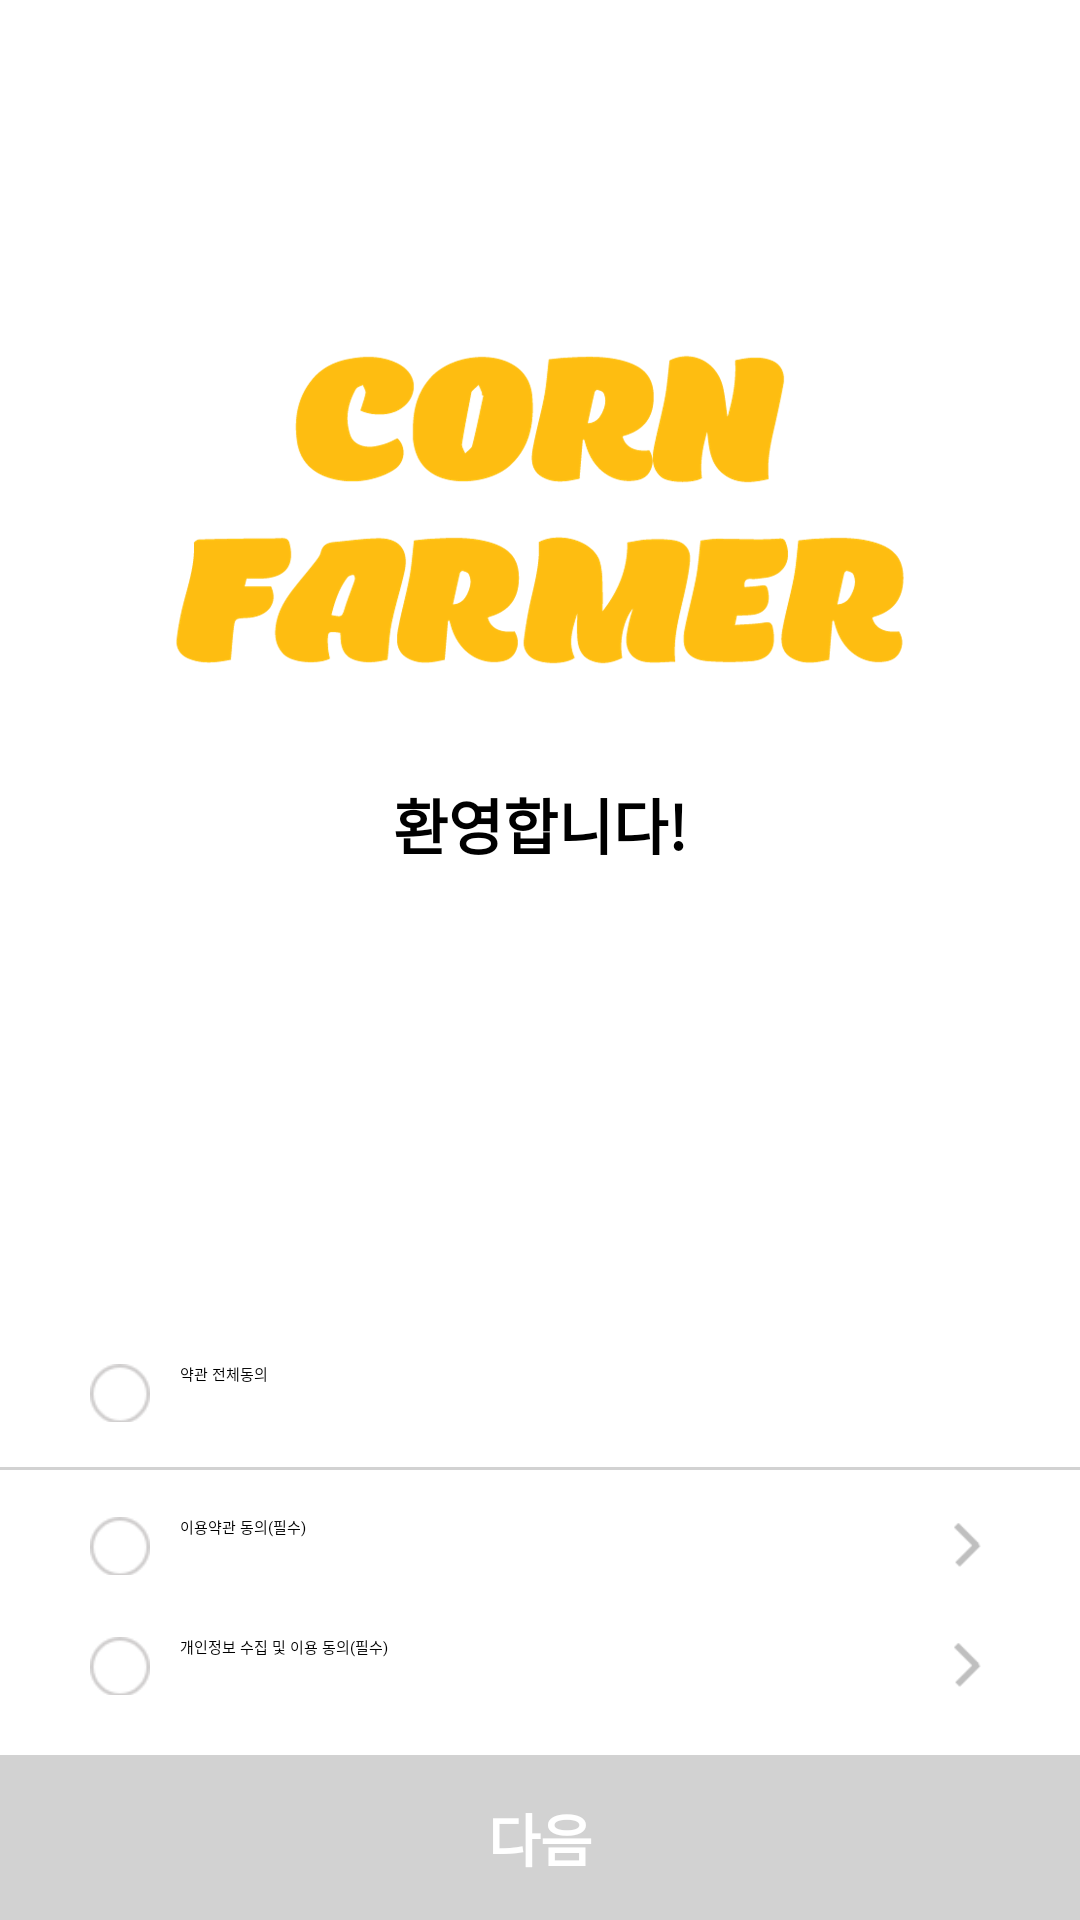

Named icons in this screenshot (1080 x 1920) and their bounding boxes, (x1, y1, x2, y2):
custom check: (90, 1364, 150, 1422), (90, 1517, 150, 1575), (90, 1637, 150, 1695)
next: (954, 1523, 980, 1566), (954, 1643, 980, 1686)
